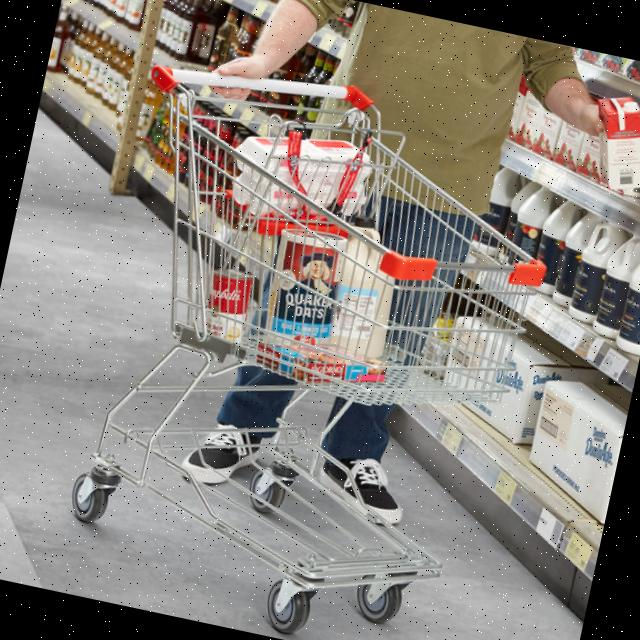Person: (129, 0, 615, 548)
